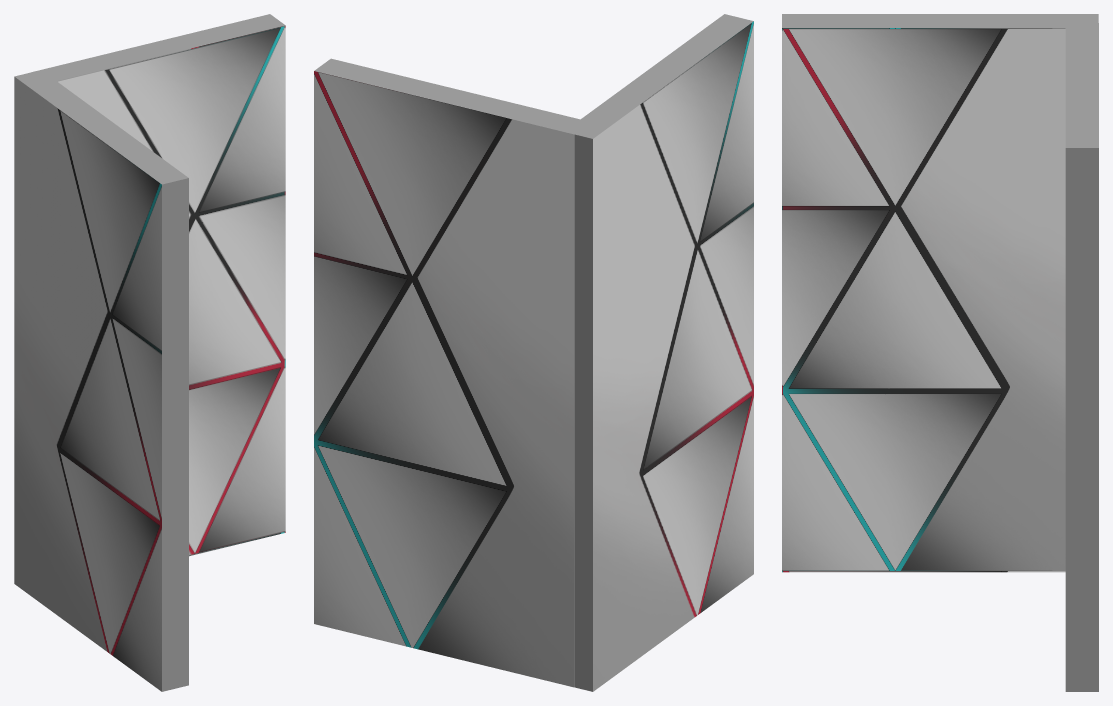
File: Corner_wall.fbx
3 renders of one model, left to right at view 1: azimuth 30°, elevation 25°; view 2: azimuth 150°, elevation 25°; view 3: azimuth 270°, elevation 25°, orthographic. The views are drawn at different scales.
Parts seen in each view (by area): view 1: Cornerwall; view 2: Cornerwall; view 3: Cornerwall.
Boxes of the visible parts, x1=… form: Cornerwall: x1=14, y1=14, x2=285, y2=691; Cornerwall: x1=314, y1=14, x2=753, y2=691; Cornerwall: x1=782, y1=14, x2=1098, y2=691.
Bounding box in the file's own units: 1.06 × 2 × 1.06.
